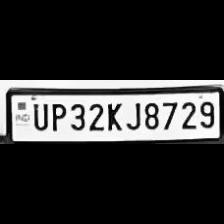2: (178, 97, 196, 130), (86, 100, 104, 132)
3: (67, 100, 85, 132)
7: (159, 99, 177, 131)
8: (140, 99, 160, 131)
9: (196, 97, 216, 128)
J: (124, 99, 142, 131)
K: (104, 100, 122, 132)
P: (47, 100, 66, 132)
U: (28, 99, 48, 130)
